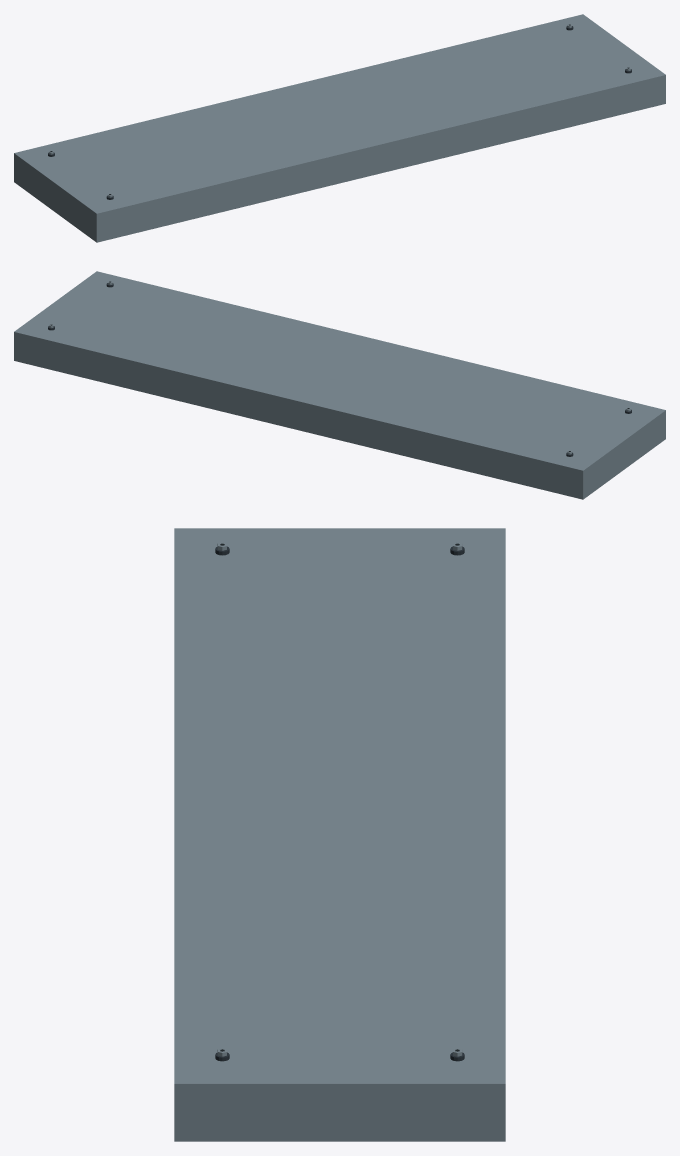
The model's file is SM_Lab_GalleryCornerConnector.fbx.
The picture shows the model from 3 angles, top to bottom: view 1: azimuth 30°, elevation 25°; view 2: azimuth 150°, elevation 25°; view 3: azimuth 270°, elevation 25°; orthographic projection. The views are drawn at different scales.
Visible parts, largest first — view 1: SM_Lab_GalleryCornerConnector; view 2: SM_Lab_GalleryCornerConnector; view 3: SM_Lab_GalleryCornerConnector.
Boxes of the visible parts, bbox=[...] form: SM_Lab_GalleryCornerConnector: bbox=[14, 14, 665, 242]; SM_Lab_GalleryCornerConnector: bbox=[14, 271, 665, 499]; SM_Lab_GalleryCornerConnector: bbox=[174, 528, 505, 1141].
Bounding box in the file's own units: 246 × 62 × 13.75.
